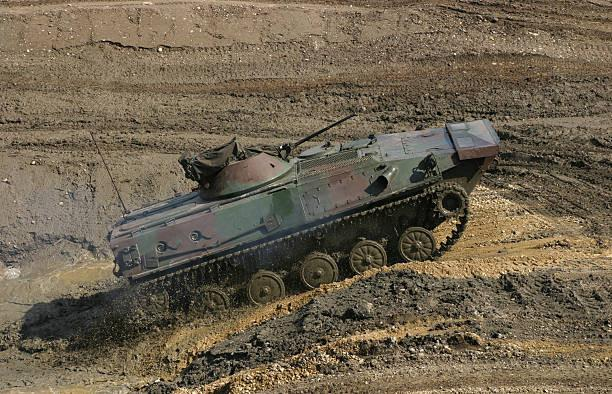tank: (107, 112, 502, 327)
